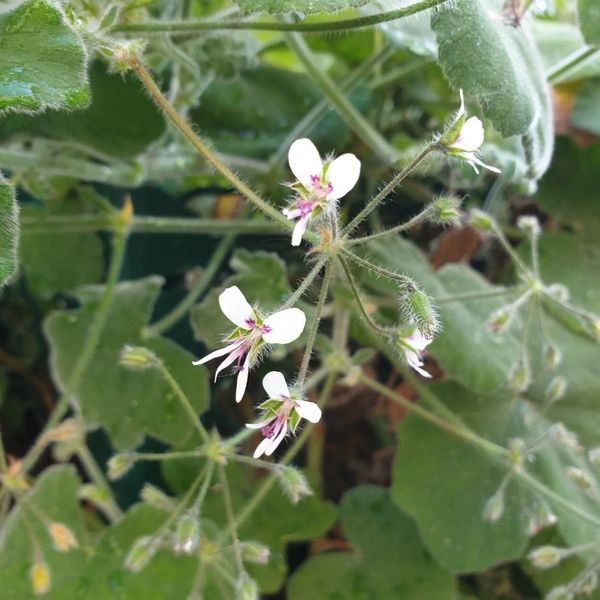obstacle: (140, 100, 541, 564)
